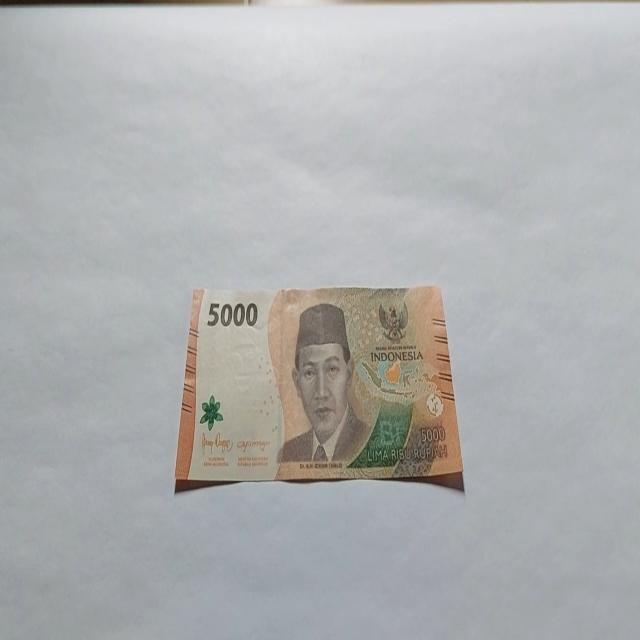lima ribu rupiah: (173, 282, 464, 494), (275, 302, 371, 468)
